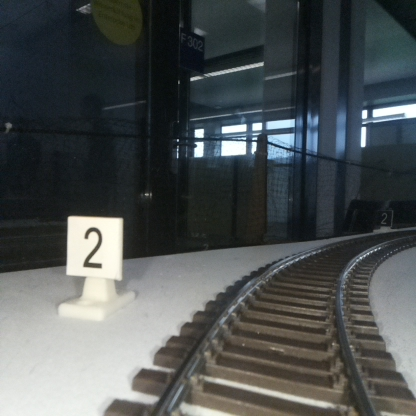black-stop-2: (378, 210, 392, 231)
white-stop-2: (68, 217, 122, 314)
